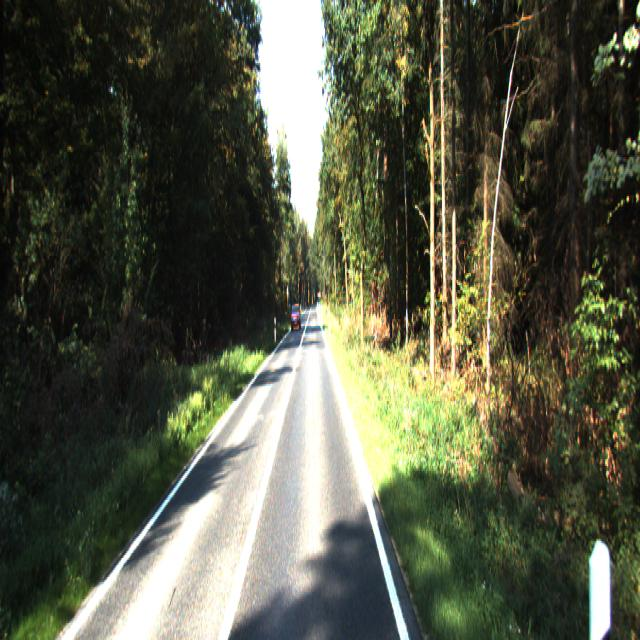Car: (291, 306, 301, 332)
